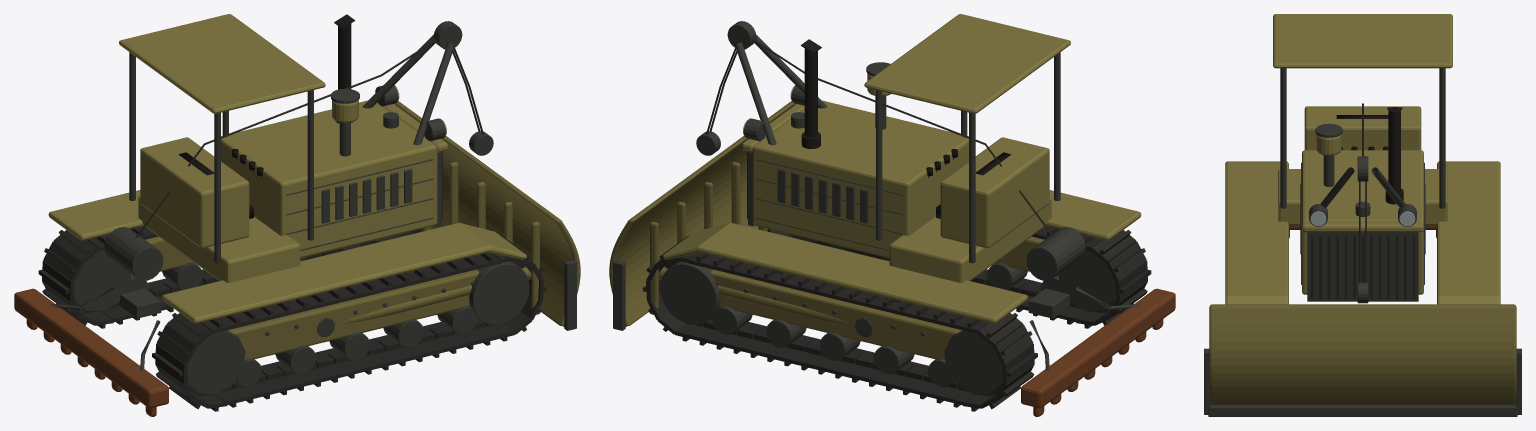
Rendered from crawler_dozer.glb.
3 renders of one model, left to right at view 1: azimuth 30°, elevation 25°; view 2: azimuth 150°, elevation 25°; view 3: azimuth 270°, elevation 25°, orthographic. The views are drawn at different scales.
Visible parts, largest first — view 1: dozer_paint, dozer_steel_dark, dozer_track, dozer_paint_worn, dozer_rust, dozer_exhaust, dozer_rubber; view 2: dozer_paint, dozer_steel_dark, dozer_track, dozer_paint_worn, dozer_rust, dozer_exhaust, dozer_rubber; view 3: dozer_paint, dozer_paint_worn, dozer_steel_dark, dozer_track, dozer_exhaust, dozer_glass, dozer_rubber.
Boxes of the visible parts, box(x1,y1,x2,y2) form: dozer_paint: box(48, 14, 526, 323); dozer_steel_dark: box(50, 21, 576, 394); dozer_track: box(38, 39, 547, 411); dozer_paint_worn: box(131, 101, 580, 359); dozer_rust: box(14, 288, 168, 416); dozer_exhaust: box(334, 14, 354, 123); dozer_rubber: box(178, 149, 263, 218); dozer_paint: box(663, 14, 1141, 323); dozer_steel_dark: box(613, 21, 1139, 394); dozer_track: box(642, 39, 1151, 411); dozer_paint_worn: box(609, 101, 1058, 359); dozer_rust: box(1021, 288, 1175, 416); dozer_exhaust: box(801, 39, 821, 148); dozer_rubber: box(926, 149, 1011, 218); dozer_paint: box(1225, 14, 1500, 304); dozer_paint_worn: box(1209, 304, 1516, 404); dozer_steel_dark: box(1204, 68, 1521, 416); dozer_track: box(1310, 103, 1415, 298); dozer_exhaust: box(1385, 107, 1403, 204); dozer_glass: box(1310, 211, 1415, 226); dozer_rubber: box(1336, 115, 1388, 150).
Size of the model in its own units: 4.26 by 2.73 by 3.
